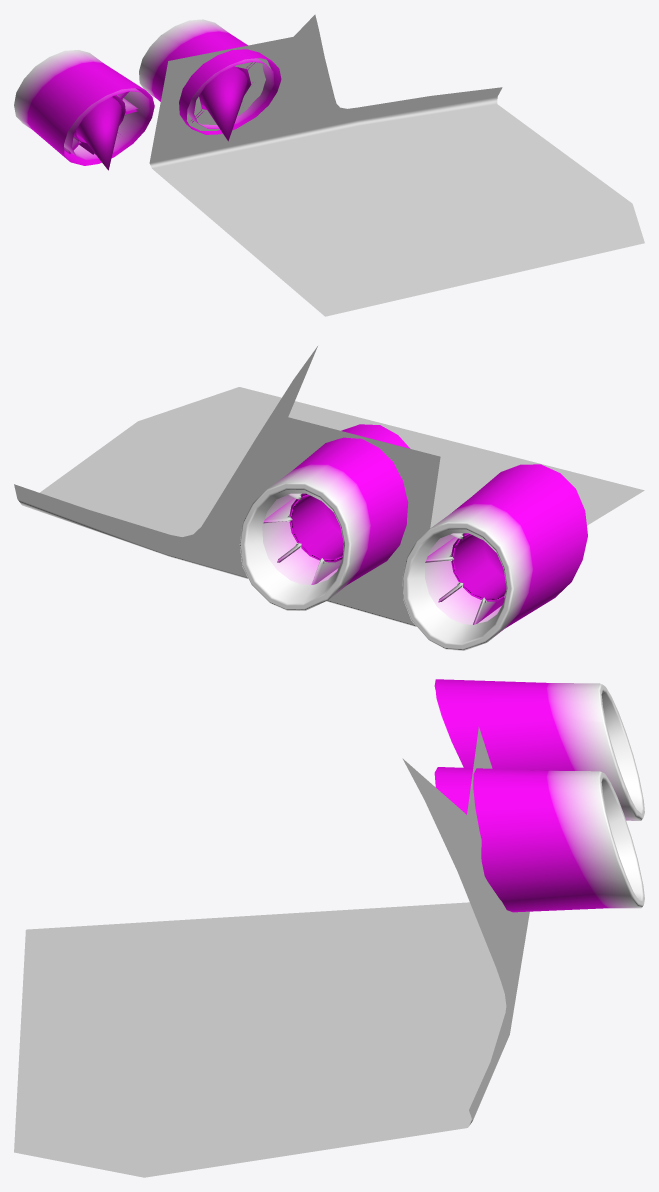
Rendered from Car_Ford_GT_2017_Exhausts_SetB.fbx.
The picture shows the model from 3 angles, top to bottom: view 1: azimuth 30°, elevation 25°; view 2: azimuth 150°, elevation 25°; view 3: azimuth 270°, elevation 25°; orthographic projection. The views are drawn at different scales.
Visible parts, largest first — view 1: Exhausts 6; view 2: Exhausts 6; view 3: Exhausts 6.
Boxes of the visible parts, x1,y1,x2,y2 form: Exhausts 6: (14, 14, 644, 316); Exhausts 6: (14, 346, 644, 650); Exhausts 6: (14, 679, 644, 1177).
Bounding box in the file's own units: 0.7249 × 0.2734 × 0.603.
